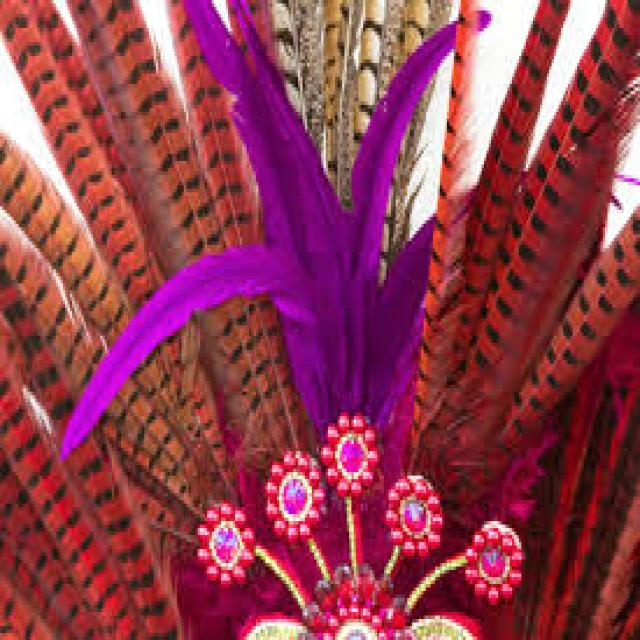Phasianus Colchicus: (0, 0, 265, 314), (434, 0, 640, 376), (0, 260, 185, 636), (0, 335, 143, 640), (506, 204, 640, 433), (1, 132, 132, 336)
